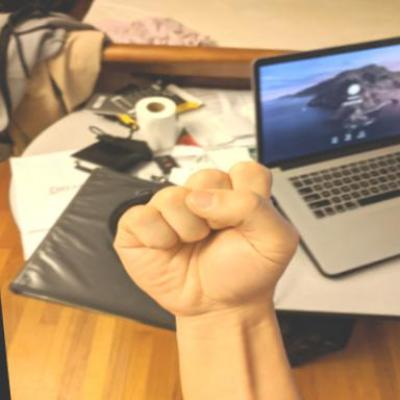hand: (99, 149, 312, 330)
